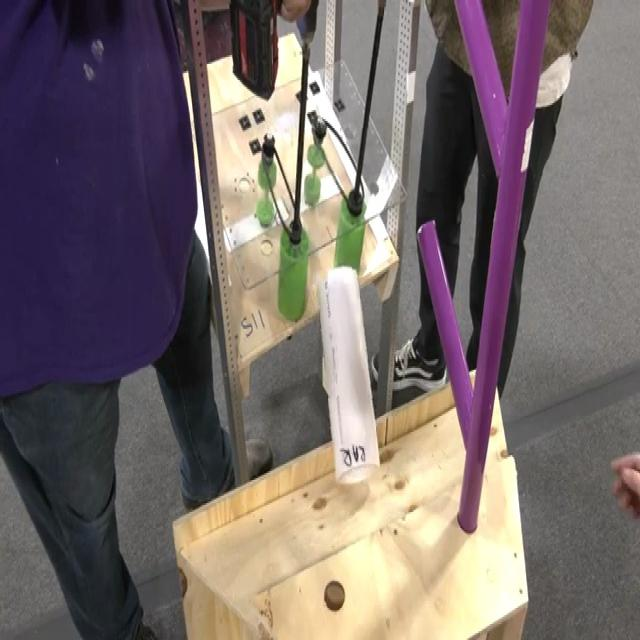Coral: (316, 263, 380, 484)
